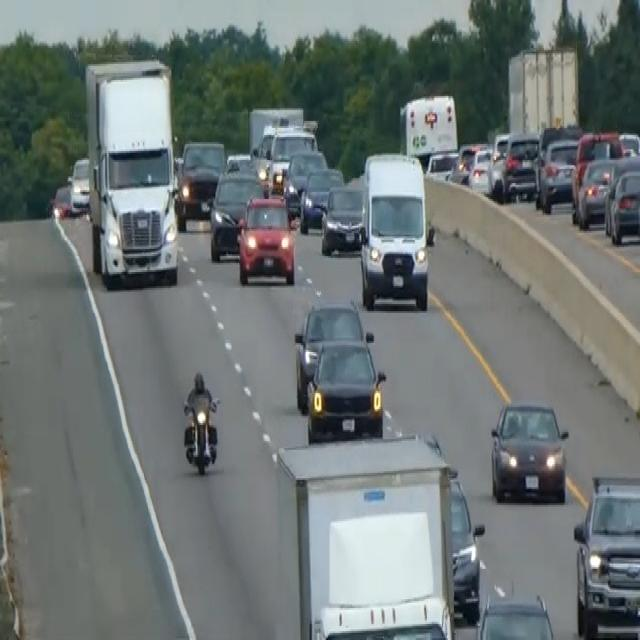car: (313, 508, 454, 638), (305, 332, 386, 441), (488, 397, 569, 503), (293, 297, 367, 411), (446, 473, 485, 619), (236, 192, 296, 286), (208, 166, 264, 262), (174, 137, 225, 227), (474, 590, 556, 638), (320, 180, 365, 256), (267, 124, 317, 192), (575, 153, 620, 227), (537, 135, 579, 212), (282, 146, 327, 217), (299, 163, 344, 233), (604, 164, 639, 245), (502, 131, 540, 201), (67, 155, 90, 213), (467, 144, 493, 194), (425, 148, 459, 182), (50, 183, 72, 221)
jeep: (571, 471, 639, 638)
lorry: (83, 55, 180, 290)
minibus: (356, 149, 434, 313)
motorcycle: (181, 391, 219, 475)
